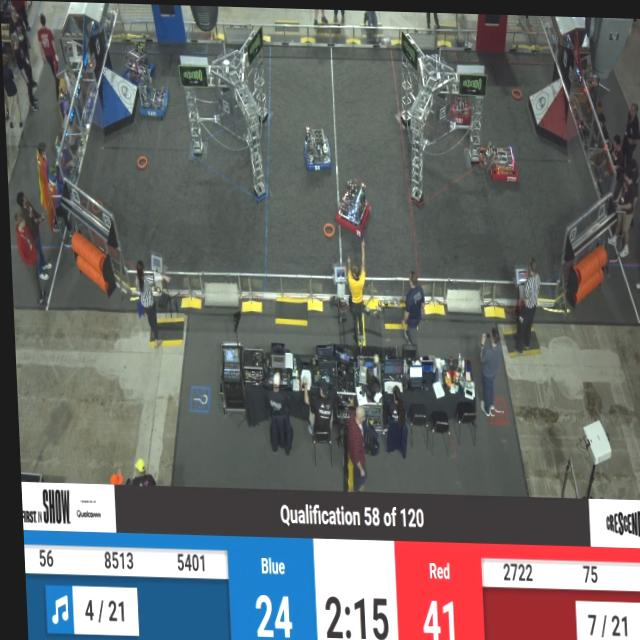Robot: (333, 173, 374, 234), (133, 64, 170, 119), (482, 135, 521, 183), (301, 121, 333, 174), (448, 68, 475, 126), (119, 38, 154, 77)
